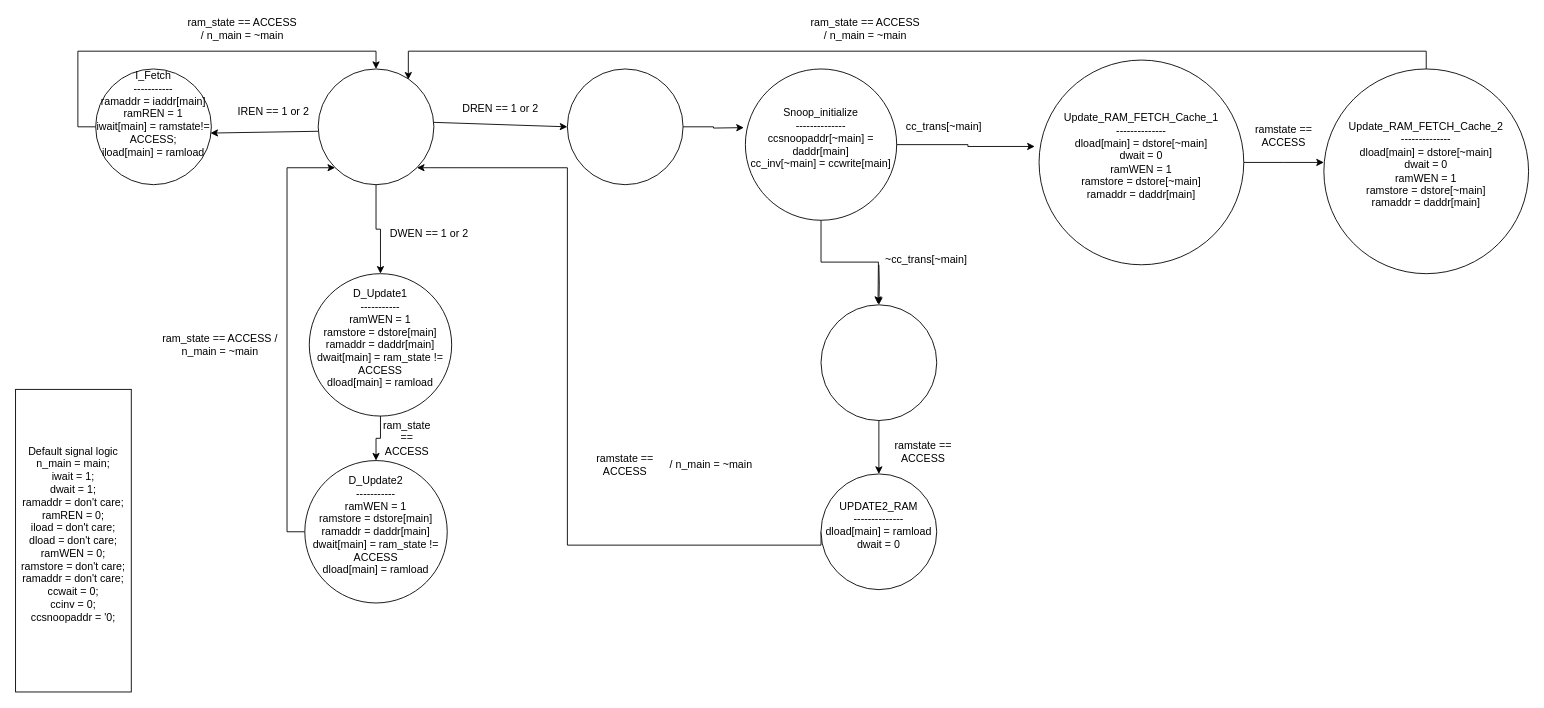
Some shapes in this 1544 by 708 pixel diagram are drawn without their labels. Each missing label, with the centre of its shape:
IDLE ----------- Default signal logic: the point at 375,126
STARSNOOP -------------- ccwait[~main] = 1: the point at 624,126
UPDATE1_RAM -------------- dload[main] = ramload dwait = 0: the point at 878,362
